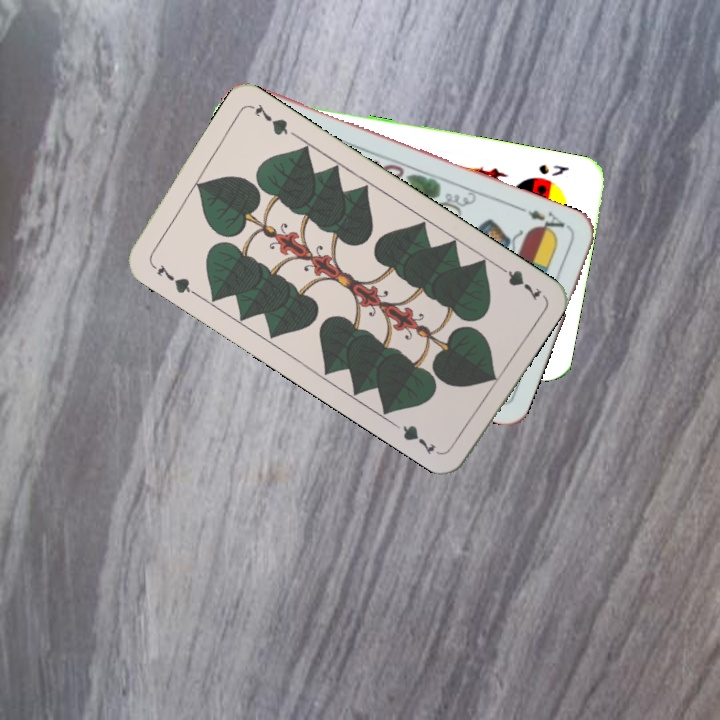EA: (516, 203, 567, 238)
G7: (492, 260, 544, 304), (146, 259, 199, 298)
SK: (534, 160, 571, 179)
